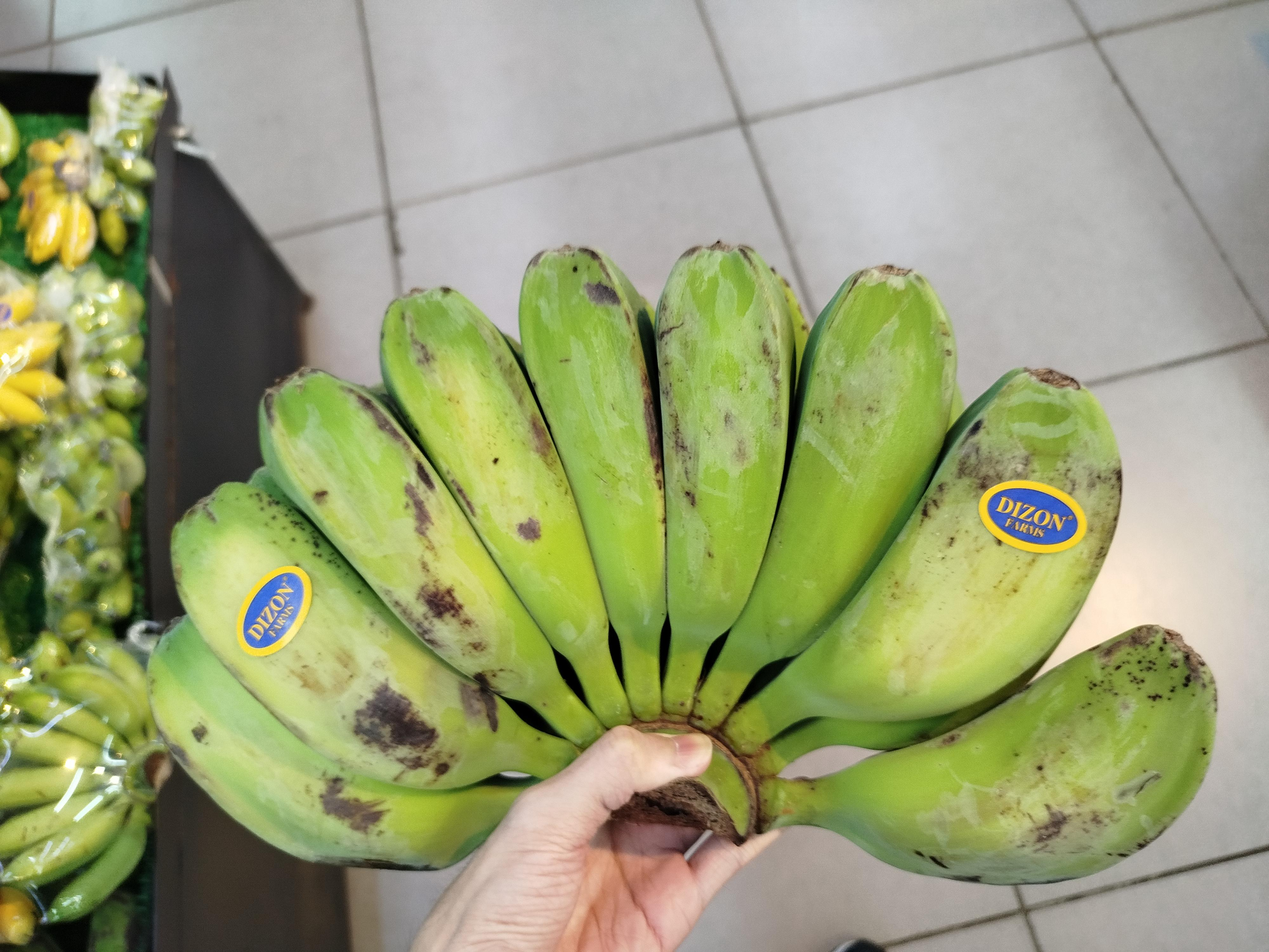underripe: (148, 243, 1216, 884)
